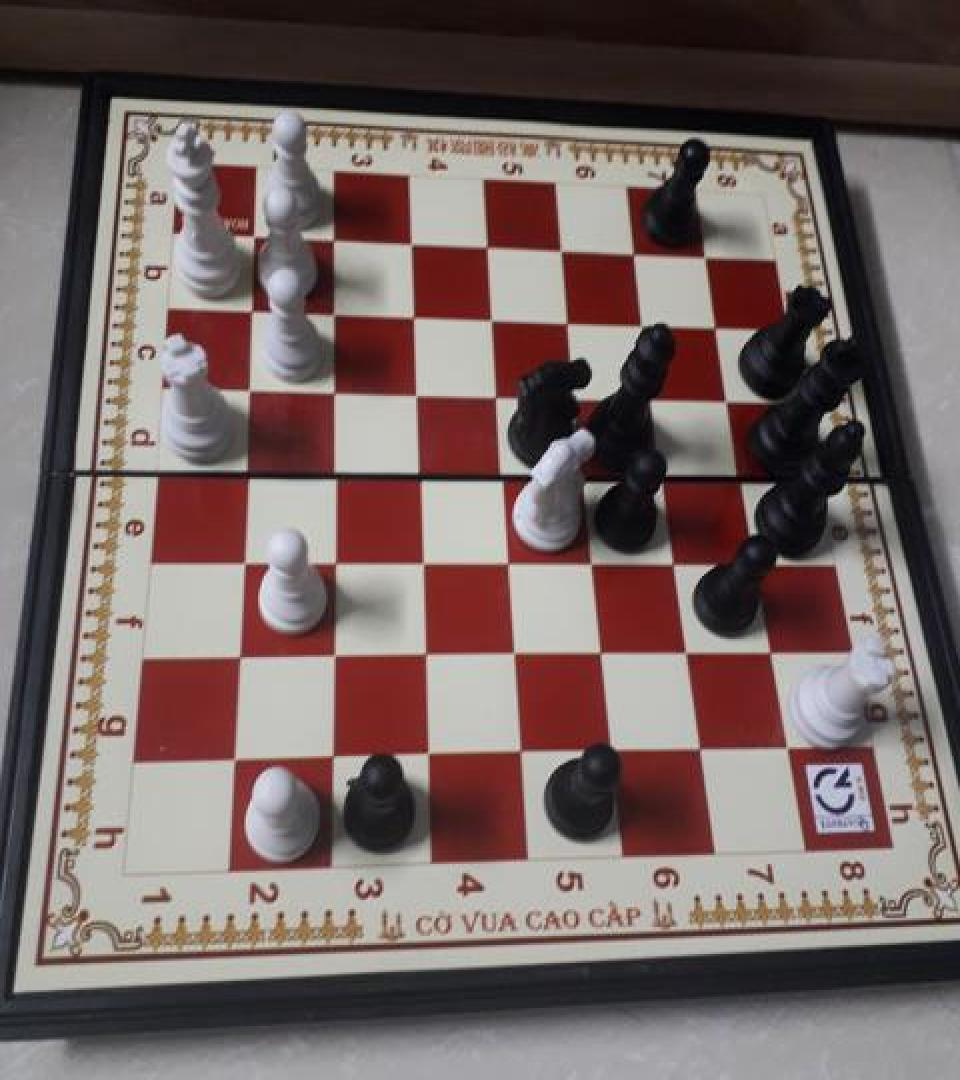xcorner: (413, 733, 445, 770), (688, 240, 720, 276), (617, 236, 649, 272), (545, 232, 577, 268), (472, 228, 504, 264), (396, 225, 428, 261), (320, 222, 352, 258), (241, 217, 273, 253), (700, 307, 732, 343), (627, 305, 659, 341), (552, 302, 584, 338), (476, 298, 508, 334), (399, 296, 431, 332), (319, 292, 351, 328), (238, 289, 270, 325), (712, 380, 744, 416), (637, 378, 669, 414), (560, 376, 592, 412), (482, 374, 514, 410), (401, 371, 433, 407), (319, 368, 351, 404), (235, 366, 267, 402), (726, 458, 758, 494), (648, 456, 680, 492), (568, 454, 600, 490), (487, 454, 519, 490), (404, 451, 436, 487), (319, 450, 351, 486), (232, 449, 264, 485), (740, 540, 772, 576), (660, 540, 692, 576), (577, 540, 609, 576), (493, 539, 525, 575), (407, 539, 439, 575), (318, 538, 350, 574), (228, 538, 260, 574), (756, 630, 788, 666), (672, 630, 704, 666), (587, 631, 619, 667), (499, 631, 531, 667), (410, 632, 442, 668), (318, 632, 350, 668), (224, 634, 256, 670), (772, 727, 804, 763), (686, 728, 718, 764), (597, 730, 629, 766), (506, 731, 538, 767), (318, 736, 350, 772), (219, 737, 251, 773)
